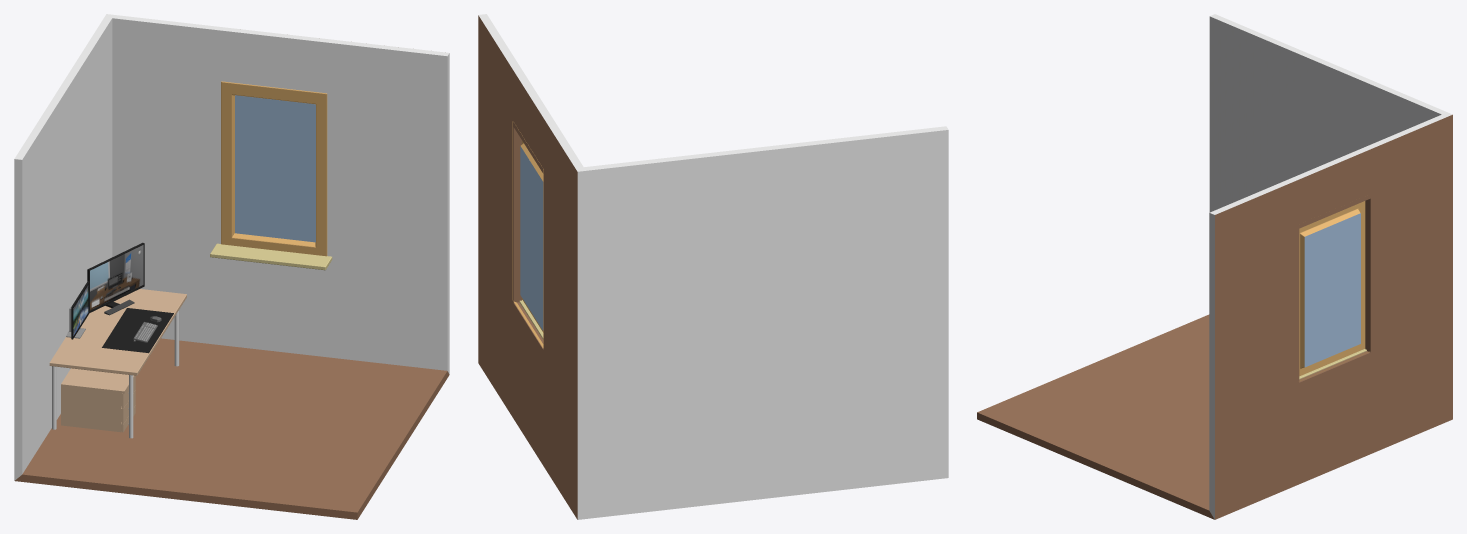
The model's file is room_final.glb.
The picture shows the model from 3 angles, left to right: view 1: azimuth 30°, elevation 25°; view 2: azimuth 150°, elevation 25°; view 3: azimuth 270°, elevation 25°; orthographic projection. The views are drawn at different scales.
Parts seen in each view (by area): view 1: Env, Cube.001, Cube, Table Top, Drawer, Monitor Right Screen, Table Mat, Table Leg, Monitor Right; view 2: Env, Cube.001, Cube; view 3: Env, Cube.001, Cube.
Part boxes in pixels (left/top/right/bottom): Env: left=14, top=14, right=449, bottom=519; Cube.001: left=235, top=95, right=315, bottom=242; Cube: left=210, top=81, right=332, bottom=270; Table Top: left=49, top=289, right=186, bottom=375; Drawer: left=61, top=368, right=135, bottom=432; Monitor Right Screen: left=90, top=245, right=143, bottom=310; Table Mat: left=102, top=308, right=173, bottom=353; Table Leg: left=52, top=310, right=179, bottom=438; Monitor Right: left=87, top=242, right=144, bottom=315; Env: left=478, top=14, right=948, bottom=519; Cube.001: left=520, top=146, right=543, bottom=330; Cube: left=512, top=121, right=543, bottom=348; Env: left=977, top=14, right=1452, bottom=519; Cube.001: left=1304, top=213, right=1360, bottom=367; Cube: left=1299, top=201, right=1369, bottom=381.
Bounding box in the file's own units: 10.44 × 7.38 × 10.44.
24 materials, 3 textured.
